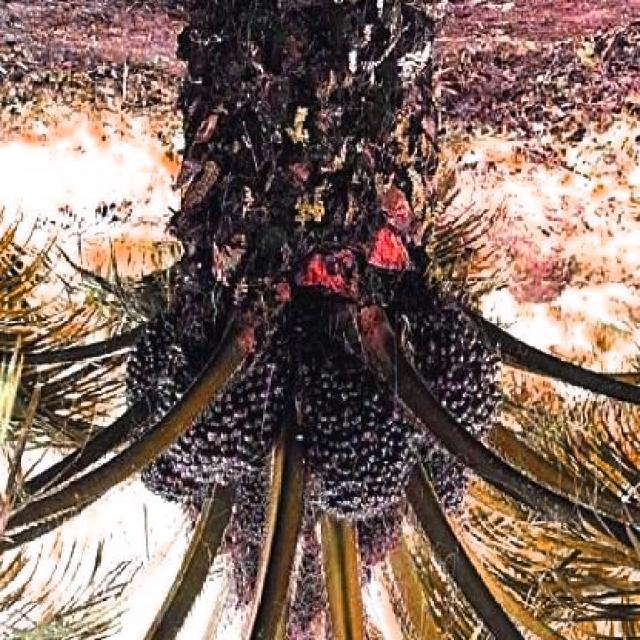palm-oil: (129, 301, 283, 484), (285, 328, 411, 516), (387, 265, 506, 443), (233, 480, 331, 636), (411, 433, 472, 521), (356, 503, 406, 569)
